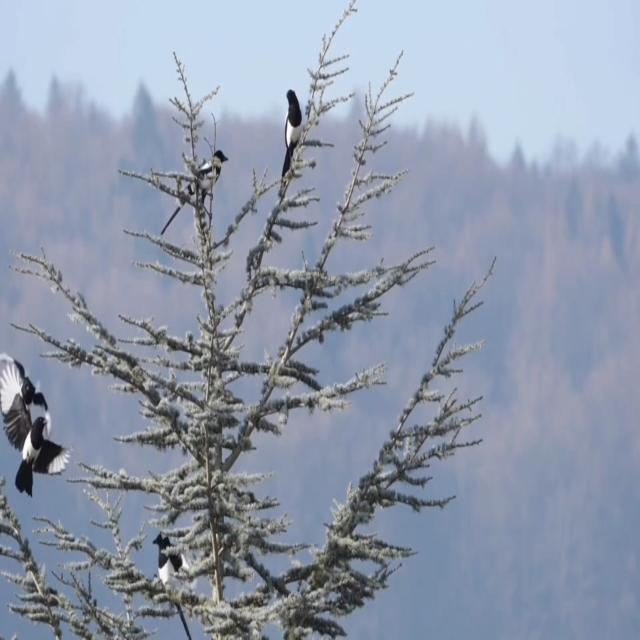bird: (0, 360, 78, 511), (155, 140, 237, 251), (138, 515, 206, 618), (2, 336, 56, 438), (271, 68, 316, 188)
